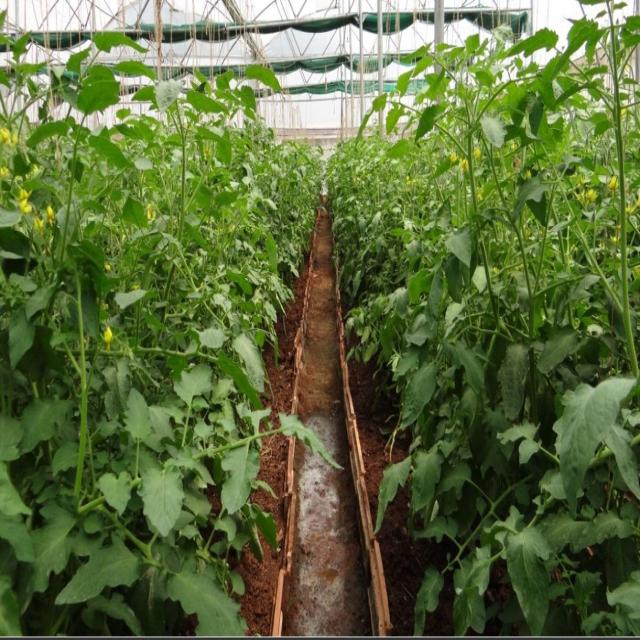row: (250, 194, 414, 637)
